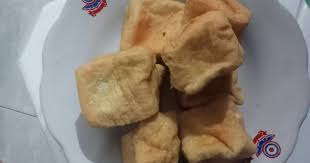Tahu goreng: (158, 11, 247, 96), (70, 49, 163, 128), (176, 98, 266, 159), (118, 0, 187, 54)
